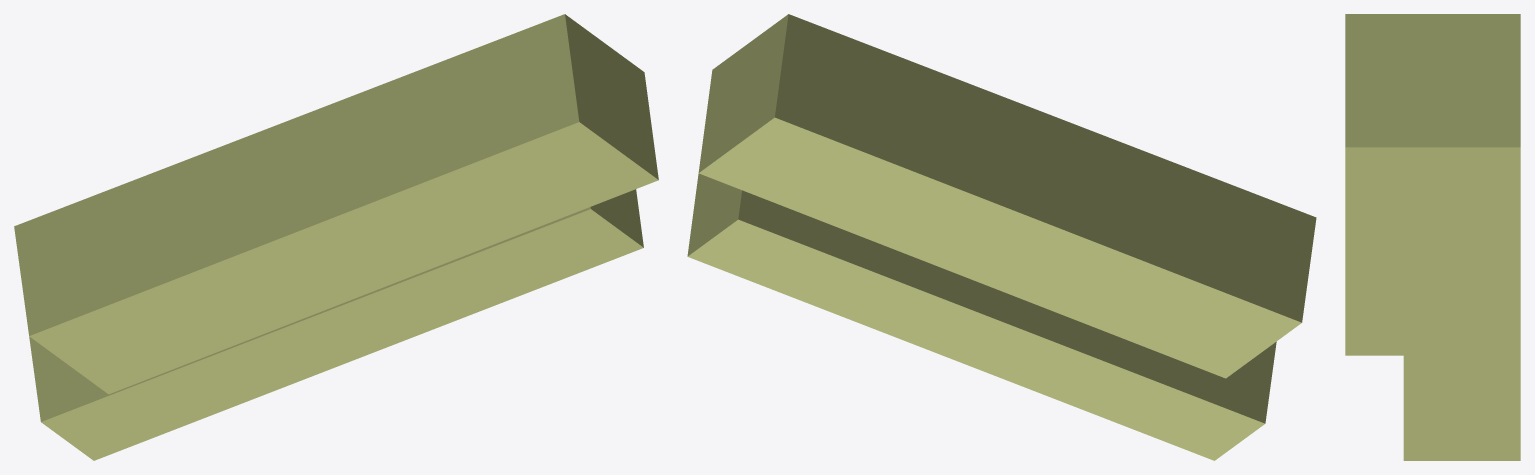
3 renders of one model, left to right at view 1: azimuth 30°, elevation 25°; view 2: azimuth 150°, elevation 25°; view 3: azimuth 270°, elevation 25°, orthographic. The views are drawn at different scales.
Parts seen in each view (by area): view 1: 0_1_3; view 2: 0_1_3; view 3: 0_1_3.
Part boxes in pixels (x1,y1,x2,y2): 0_1_3: (14, 14, 658, 460); 0_1_3: (687, 14, 1316, 460); 0_1_3: (1345, 14, 1520, 460).
Size of the model in its own units: 37.67 by 17.49 by 9.
